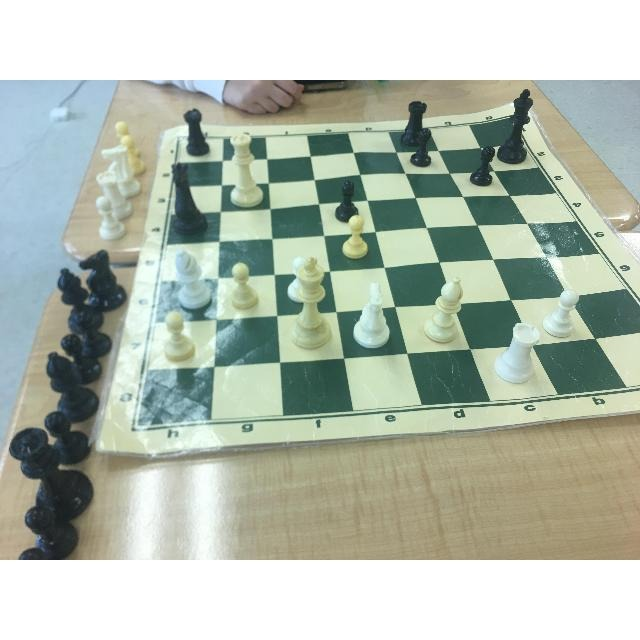black-king: (499, 88, 543, 165)
black-knight: (163, 161, 210, 232)
black-pawn: (461, 140, 496, 192), (330, 175, 362, 214), (407, 127, 435, 167)
black-rook: (175, 109, 217, 159), (402, 96, 428, 141)
white-bishop: (169, 248, 215, 309)
white-king: (295, 259, 337, 343)
white-knight: (418, 270, 467, 350), (352, 280, 394, 356)
white-pawn: (157, 305, 198, 365), (541, 281, 581, 335), (226, 260, 260, 314), (343, 214, 374, 264)
white-queen: (227, 129, 276, 210)
white-rook: (499, 311, 543, 389)
